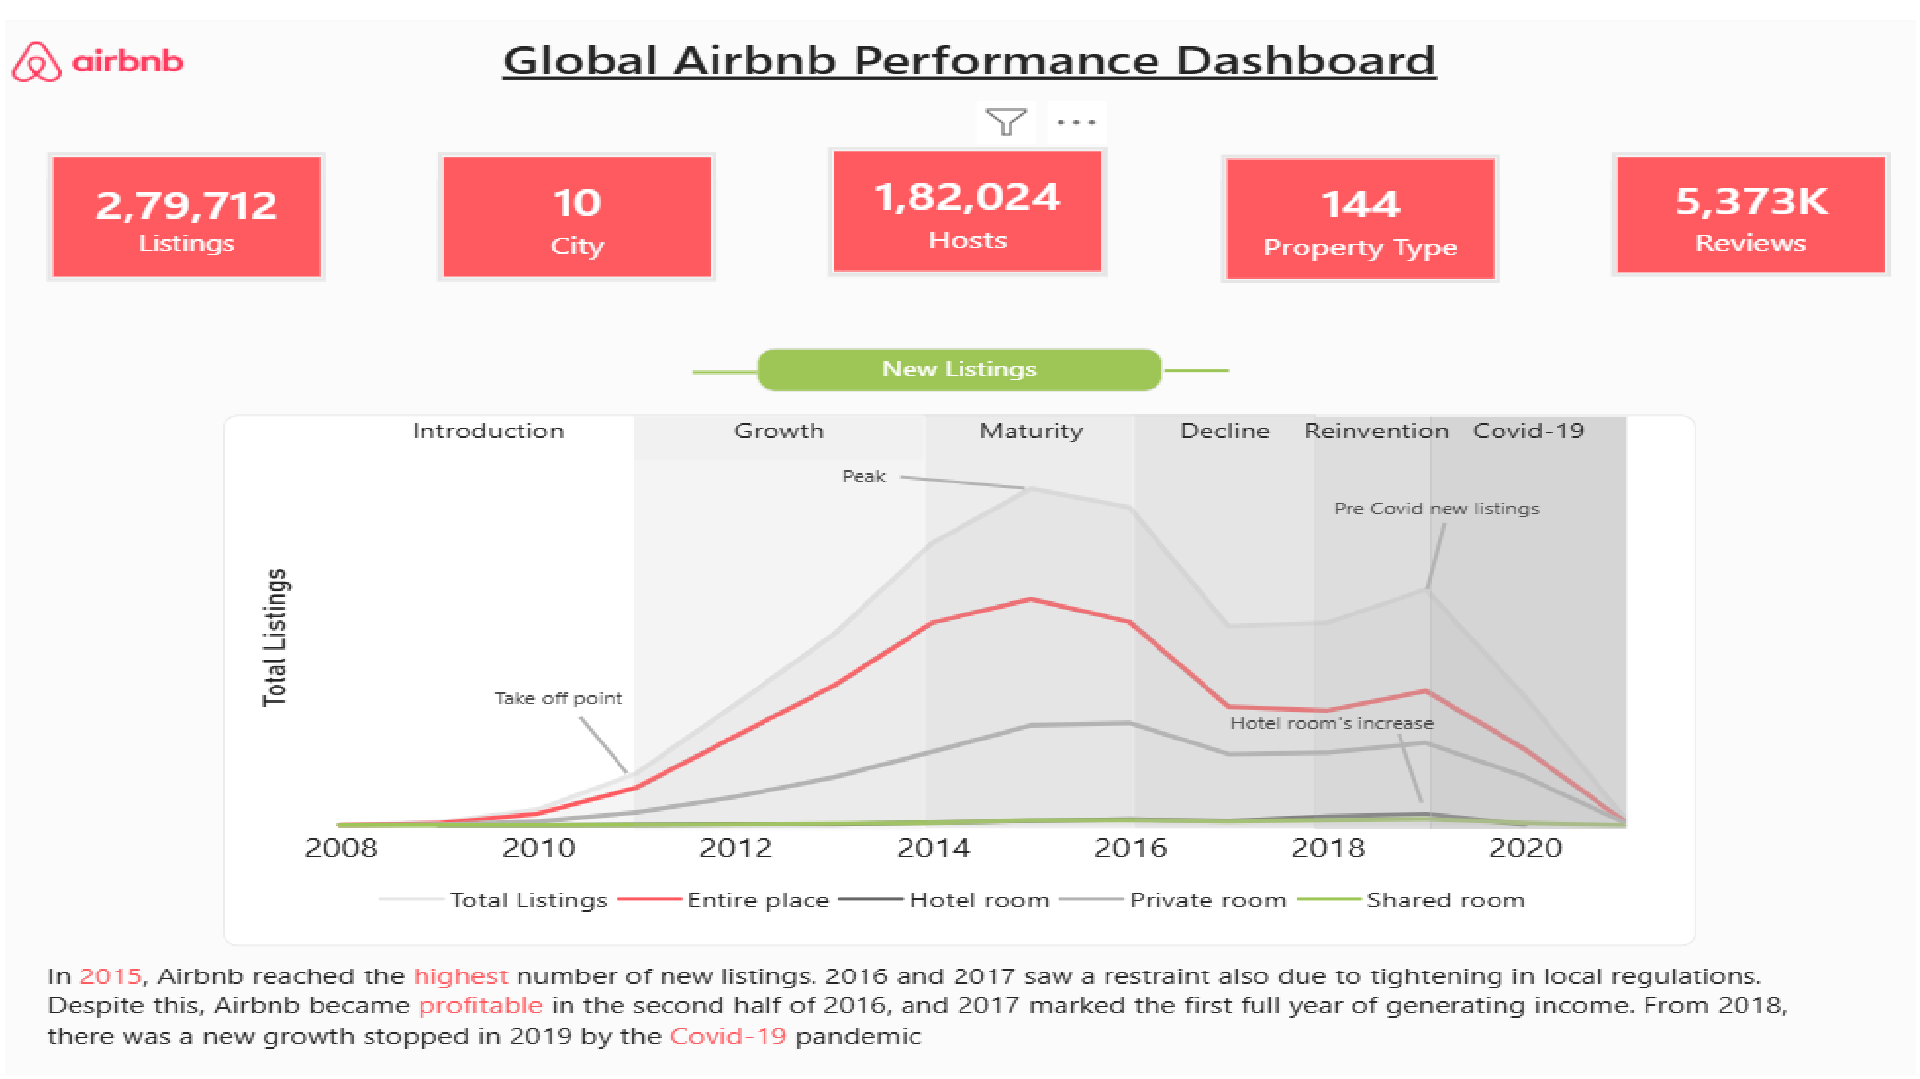

Layout of this report page (visuals, bound fields, positions):
{"tool":"powerbi","page":{"name":"Overview","canvas":[960,720],"ordinal":0},"visuals":[{"type":"textbox","box":[10.2,12.8,949.4,66.6],"z":0},{"type":"image","box":[0,19.2,97.4,26.9],"z":1000},{"type":"cardVisual","fields":{"Data":["CountNonNull(Listings.listing_id)"]},"box":[23.1,93.1,140,86.9],"z":2000},{"type":"cardVisual","fields":{"Data":["Count(Listings.city)"]},"box":[218.9,92.7,140,86.9],"z":3000},{"type":"cardVisual","fields":{"Data":["Count(Listings.host_id)"]},"box":[414.4,90,140,86.9],"z":4000},{"type":"cardVisual","fields":{"Data":["Count(Listings.property_type)"]},"box":[610.5,94,140,86.9],"z":5000},{"type":"cardVisual","fields":{"Data":["Count(Reviews.review_id)"]},"box":[806.4,93.6,140,83.6],"z":6000},{"type":"lineChart","fields":{"Category":["Listings.host_since.Variation.Date Hierarchy.Year"],"Y":["CountNonNull(Listings.listing_id)","Listings.Entire place","Listings.Hotel room","Listings.Private room","Listings.Shared room"]},"box":[111.4,268.6,737.1,354.3],"z":7000},{"type":"textbox","box":[377.9,224.2,203.7,29.5],"z":8000},{"type":"shape","box":[345.7,224.3,32.1,30],"z":9000},{"type":"shape","box":[582,224,32.1,30],"z":10000},{"type":"shape","box":[316.7,268.9,145.6,30],"z":11000},{"type":"shape","box":[316.9,269.2,145.4,275.4],"z":12000},{"type":"shape","box":[462.2,268.9,104.4,275.6],"z":13000},{"type":"shape","box":[566.7,268.9,91.1,275.6],"z":14000},{"type":"shape","box":[657.5,269.2,58.3,275],"z":15000},{"type":"shape","box":[715.8,269.2,98.3,275],"z":16000},{"type":"textbox","box":[171.1,268.9,145.6,30],"z":17000},{"type":"textbox","box":[316.7,268.9,145.6,30],"z":18000},{"type":"textbox","box":[465.6,268.9,101.1,30],"z":19000},{"type":"textbox","box":[566.7,268.9,91.1,30],"z":20000},{"type":"textbox","box":[644.4,268.9,90,30],"z":21000},{"type":"textbox","box":[715.6,268.9,98.9,30],"z":22000},{"type":"textbox","box":[212,446,134,33],"z":23000},{"type":"textbox","box":[378.3,297.5,107.5,42.5],"z":24000},{"type":"textbox","box":[657.5,320,121.2,40],"z":25000},{"type":"textbox","box":[582.5,462.5,167.5,36.2],"z":26000},{"type":"shape","box":[273.3,468.3,56.7,39.2],"z":27000},{"type":"shape","box":[677.5,480.8,56.7,46.7],"z":28000},{"type":"shape","box":[690,340,56.7,45],"z":29000},{"type":"shape","box":[449.2,293.3,63.3,39.2],"z":30000},{"type":"textbox","box":[23.1,632.9,922.4,87.1],"z":31000}]}

Visuals, with their boxes on the page's 960x720 design canvas (x1, y1, x2, y2). These are canvas units, not pixel positions in the 1920x1079 screenshot, which may show the page scaled, cropped or inside an application window:
textbox: bbox=[10, 13, 960, 79]
image: bbox=[0, 19, 97, 46]
cardVisual - CountNonNull(Listings.listing_id): bbox=[23, 93, 163, 180]
cardVisual - Count(Listings.city): bbox=[219, 93, 359, 180]
cardVisual - Count(Listings.host_id): bbox=[414, 90, 554, 177]
cardVisual - Count(Listings.property_type): bbox=[610, 94, 750, 181]
cardVisual - Count(Reviews.review_id): bbox=[806, 94, 946, 177]
lineChart - Listings.host_since.Variation.Date Hierarchy.Year x CountNonNull(Listings.listing_id): bbox=[111, 269, 848, 623]
textbox: bbox=[378, 224, 582, 254]
shape: bbox=[346, 224, 378, 254]
shape: bbox=[582, 224, 614, 254]
shape: bbox=[317, 269, 462, 299]
shape: bbox=[317, 269, 462, 545]
shape: bbox=[462, 269, 567, 544]
shape: bbox=[567, 269, 658, 544]
shape: bbox=[658, 269, 716, 544]
shape: bbox=[716, 269, 814, 544]
textbox: bbox=[171, 269, 317, 299]
textbox: bbox=[317, 269, 462, 299]
textbox: bbox=[466, 269, 567, 299]
textbox: bbox=[567, 269, 658, 299]
textbox: bbox=[644, 269, 734, 299]
textbox: bbox=[716, 269, 814, 299]
textbox: bbox=[212, 446, 346, 479]
textbox: bbox=[378, 298, 486, 340]
textbox: bbox=[658, 320, 779, 360]
textbox: bbox=[582, 462, 750, 499]
shape: bbox=[273, 468, 330, 508]
shape: bbox=[678, 481, 734, 528]
shape: bbox=[690, 340, 747, 385]
shape: bbox=[449, 293, 512, 332]
textbox: bbox=[23, 633, 946, 720]
